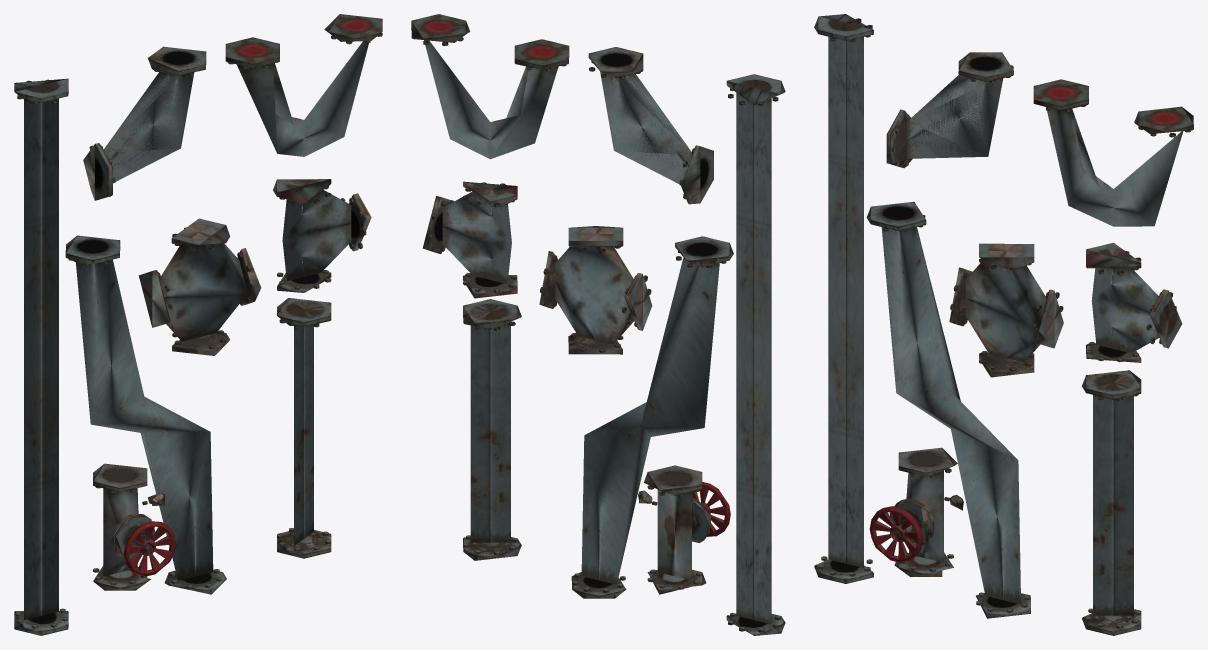
The model's file is pipes.glb.
3 renders of one model, left to right at view 1: azimuth 30°, elevation 25°; view 2: azimuth 150°, elevation 25°; view 3: azimuth 330°, elevation 25°, orthographic.
Visible parts, largest first — view 1: pipes; view 2: pipes; view 3: pipes.
Part boxes in pixels (x1,y1,x2,y2): pipes: [14, 14, 382, 635]; pipes: [411, 14, 785, 635]; pipes: [814, 14, 1193, 635].
Bounding box in the file's own units: 1.4 × 1.95 × 0.3073.
2 materials, 2 textured.
